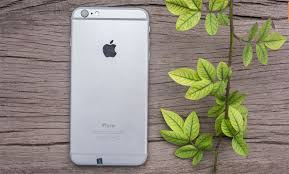iphone: (66, 6, 156, 167)
